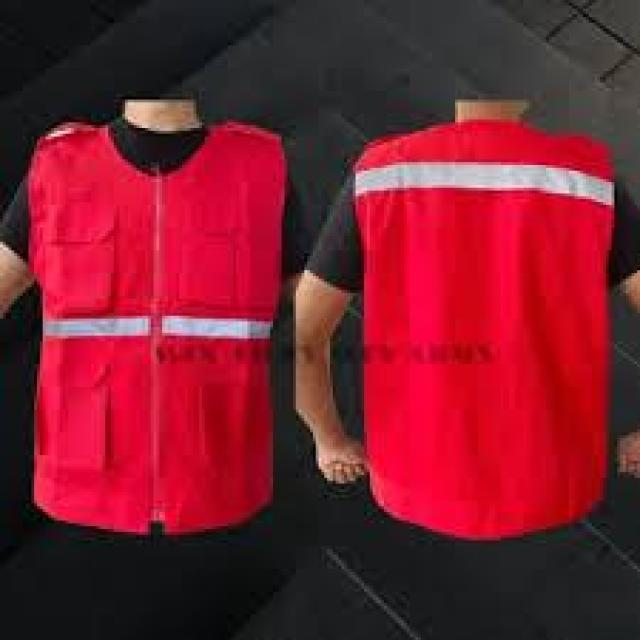vest: (356, 114, 617, 532), (27, 122, 277, 532)
